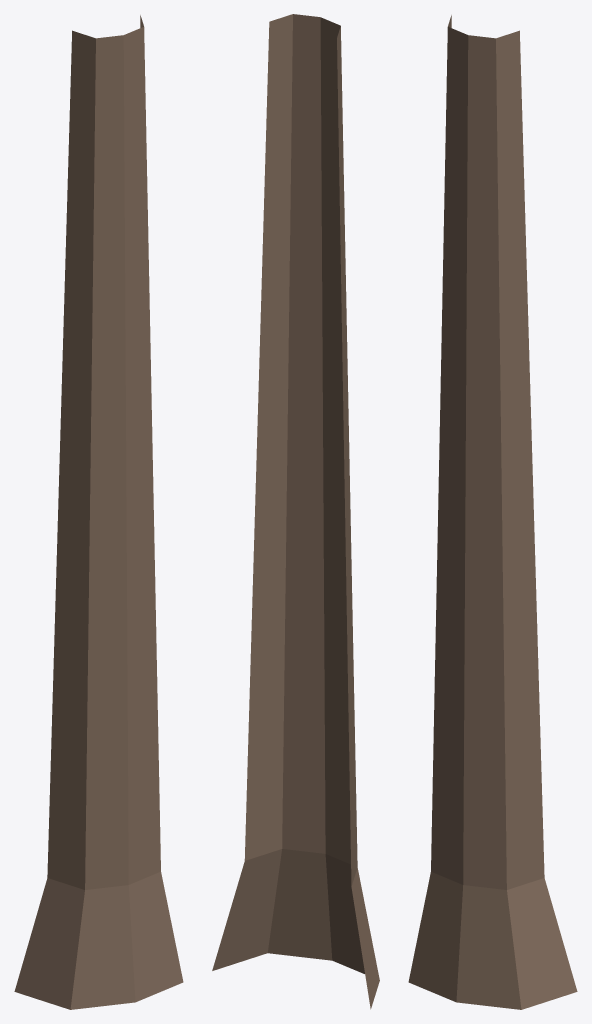
File: rainforest_distanttree_foreground.fbx
3 views of the same model, side by side, from view 1: azimuth 30°, elevation 25°; view 2: azimuth 150°, elevation 25°; view 3: azimuth 330°, elevation 25° (orthographic).
Parts seen in each view (by area): view 1: rainforest_distanttree_foregound; view 2: rainforest_distanttree_foregound; view 3: rainforest_distanttree_foregound.
Boxes of the visible parts, x1,y1,x2,y2 form: rainforest_distanttree_foregound: (14, 15, 183, 1009); rainforest_distanttree_foregound: (212, 14, 379, 1009); rainforest_distanttree_foregound: (408, 15, 577, 1009).
Size of the model in its own units: 2.97 by 17.05 by 1.33.
